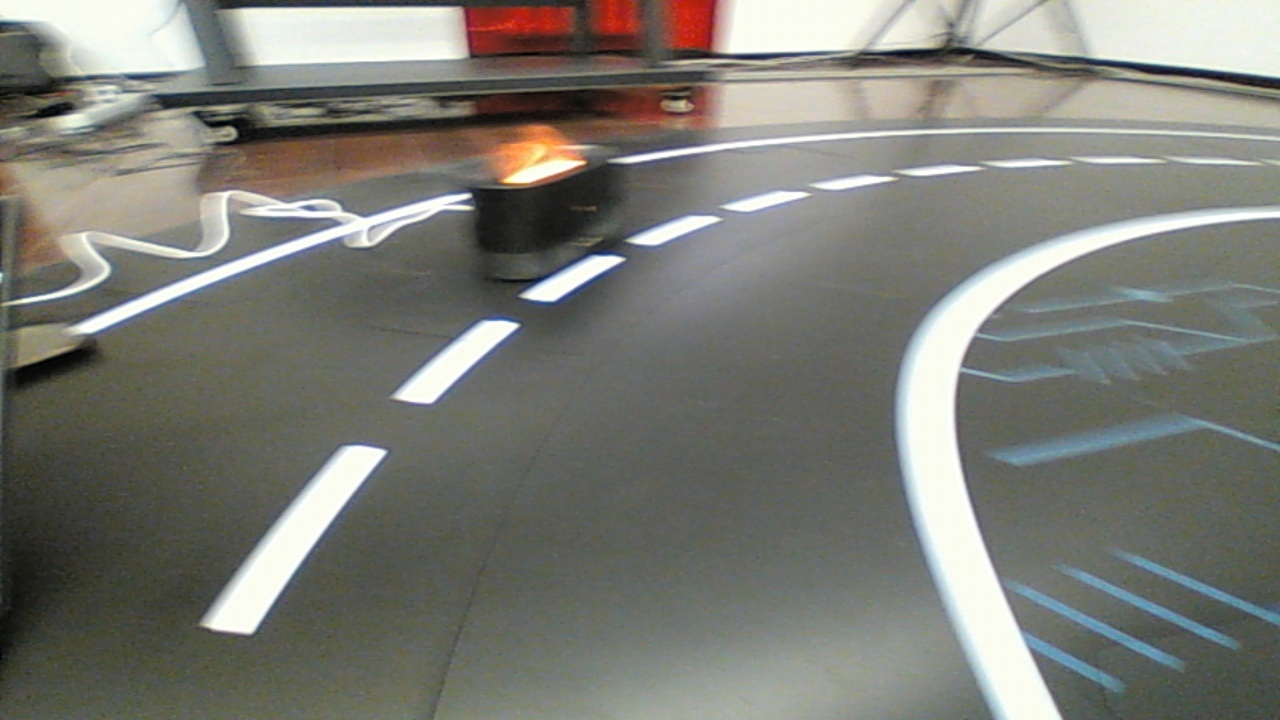Movement prohibition: (443, 126, 653, 286)
